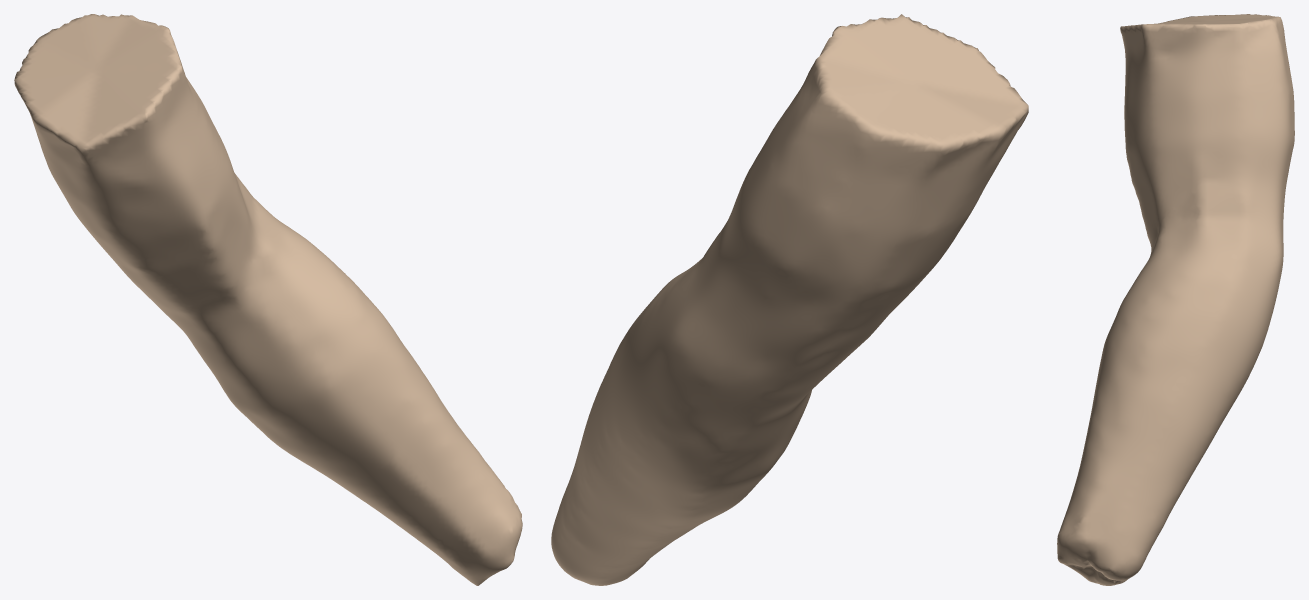
File: Stump.fbx
3 renders of one model, left to right at view 1: azimuth 30°, elevation 25°; view 2: azimuth 150°, elevation 25°; view 3: azimuth 270°, elevation 25°, orthographic. The views are drawn at different scales.
Parts seen in each view (by area): view 1: Renderer_Body; view 2: Renderer_Body; view 3: Renderer_Body.
Boxes of the visible parts, <box> form: Renderer_Body: <box>14,14,522,585</box>; Renderer_Body: <box>551,14,1028,585</box>; Renderer_Body: <box>1057,14,1294,585</box>.
Size of the model in its own units: 26.35 by 33.72 by 15.78.
